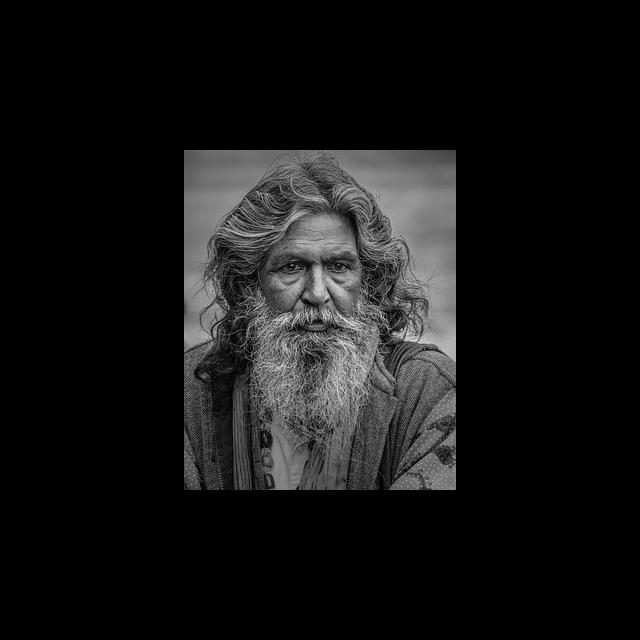male: (209, 167, 413, 413)
